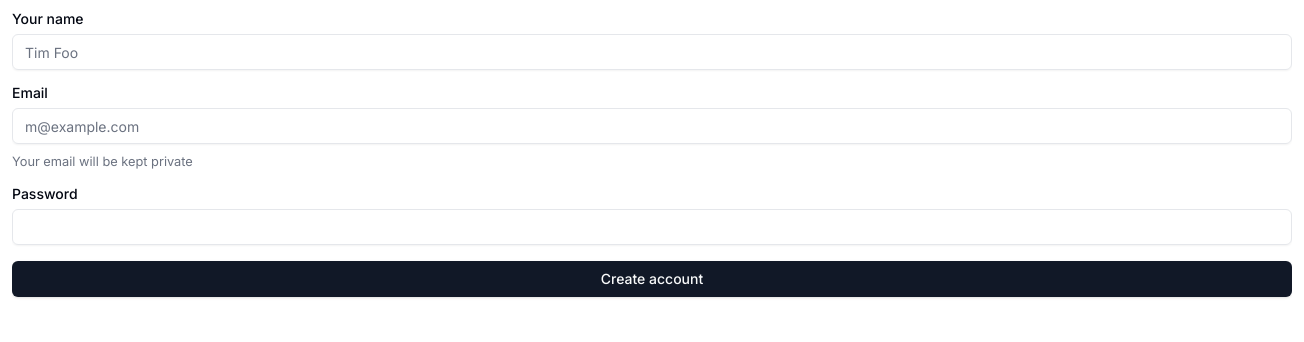
Test: validation is successful › should show error and stop loading if email already exists
This screenshot has width=1304, height=342.
Type "bob" into the field labelled "Your name" at (652, 52), box [12, 34, 1292, 70]
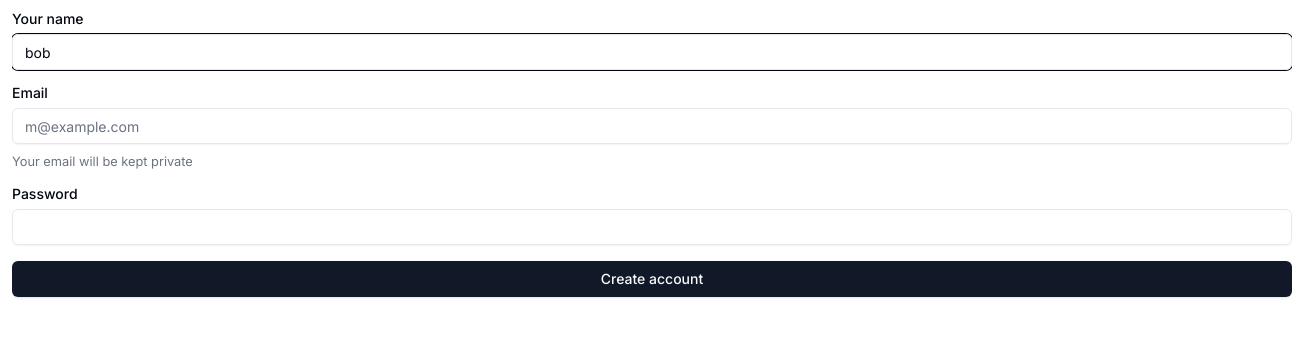
Type "bob@bob.com" into the field labelled "Email" at (652, 126), box [12, 108, 1292, 144]
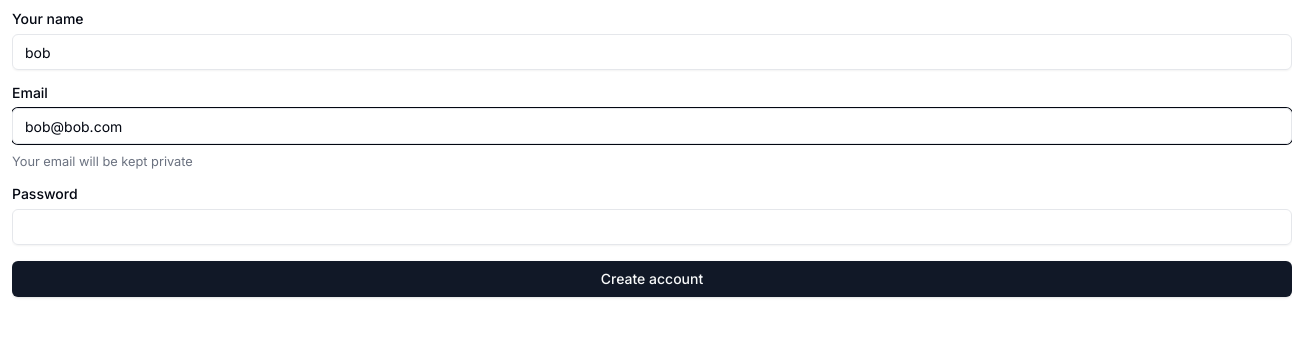
Type "Bob123@" into the password field labelled "Password" at (652, 227), box [12, 209, 1292, 245]
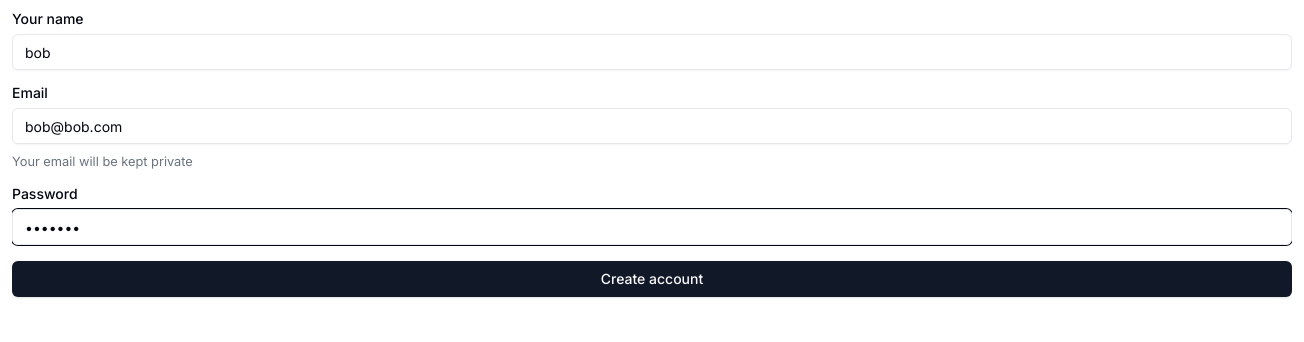
Click the button "Create account" at (652, 279), box [12, 261, 1292, 297]
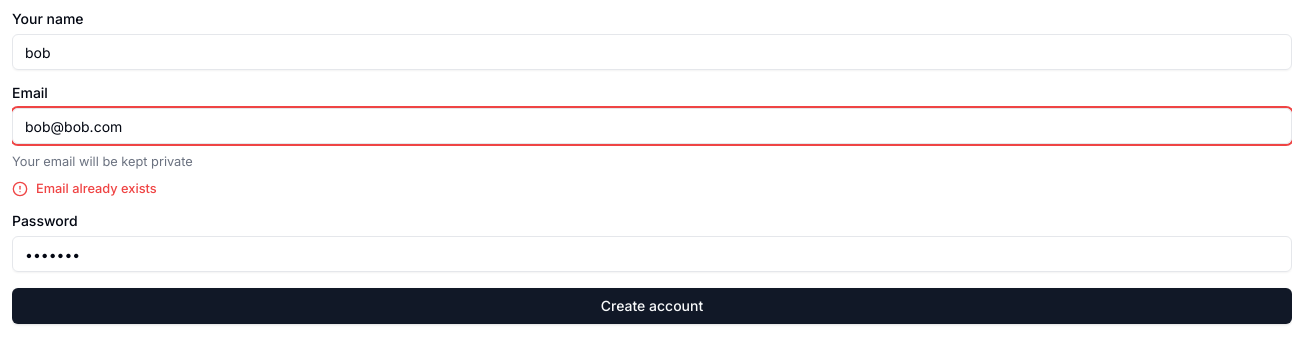
Expected: the button "Create account" is shown, [12, 288, 1292, 324]
Result: the text "Email already exists" is shown at [12, 181, 157, 197]
